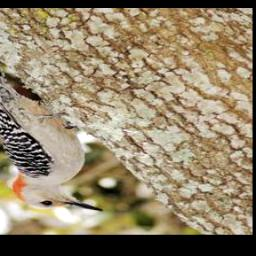Woodpecker: (0, 43, 109, 220)
